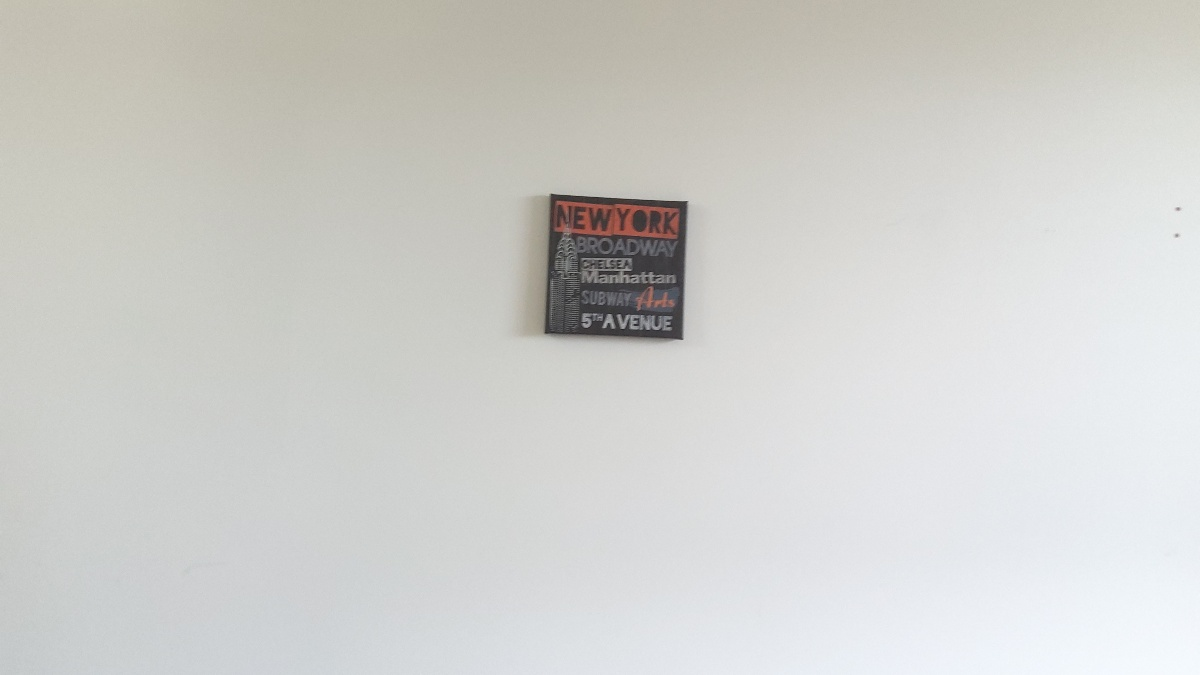poster: (537, 189, 692, 346)
